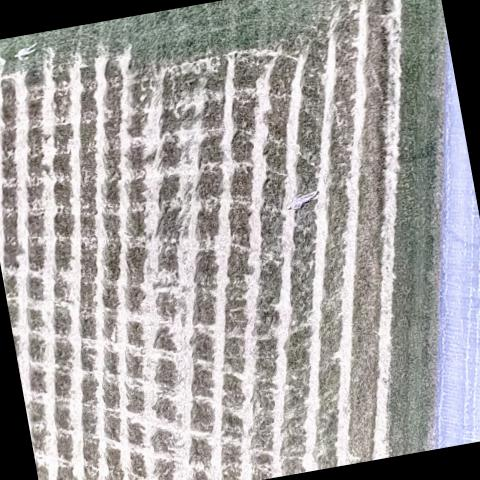person: (282, 184, 322, 212), (8, 40, 40, 60)
